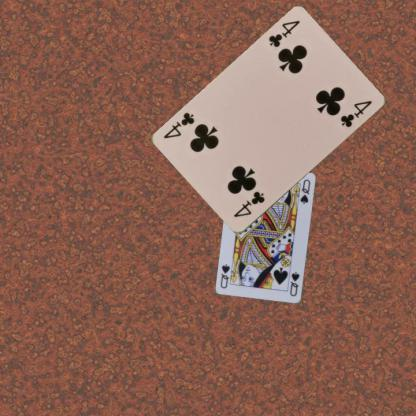4c: (231, 188, 266, 219), (266, 18, 301, 49)
Qs: (288, 270, 301, 297)
